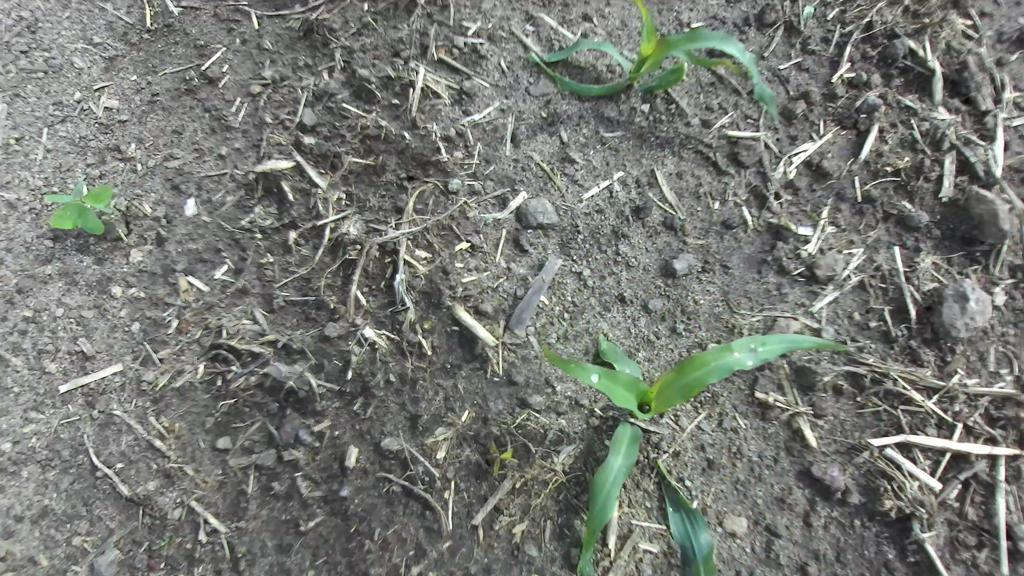BroWeed: (38, 175, 115, 236), (474, 437, 516, 482), (801, 5, 815, 25), (7, 133, 18, 146), (422, 320, 432, 331), (539, 107, 548, 119), (159, 538, 169, 546)
Maize: (544, 334, 857, 576)
